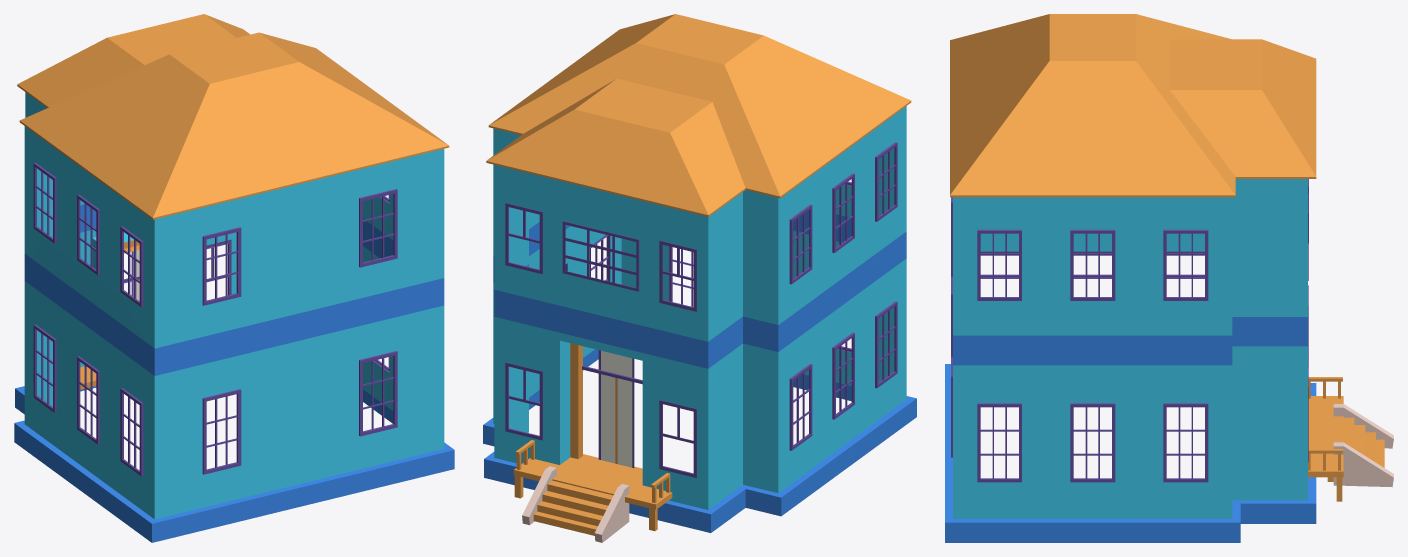
Rendered from Grey Building.fbx.
3 renders of one model, left to right at view 1: azimuth 30°, elevation 25°; view 2: azimuth 150°, elevation 25°; view 3: azimuth 270°, elevation 25°, orthographic. The views are drawn at different scales.
Parts seen in each view (by area): view 1: Grey Building; view 2: Grey Building; view 3: Grey Building.
Part boxes in pixels (x1,y1,x2,y2): Grey Building: (14, 14, 454, 542); Grey Building: (483, 14, 916, 542); Grey Building: (945, 14, 1393, 542).
Bounding box in the file's own units: 883 × 1113 × 1057.
